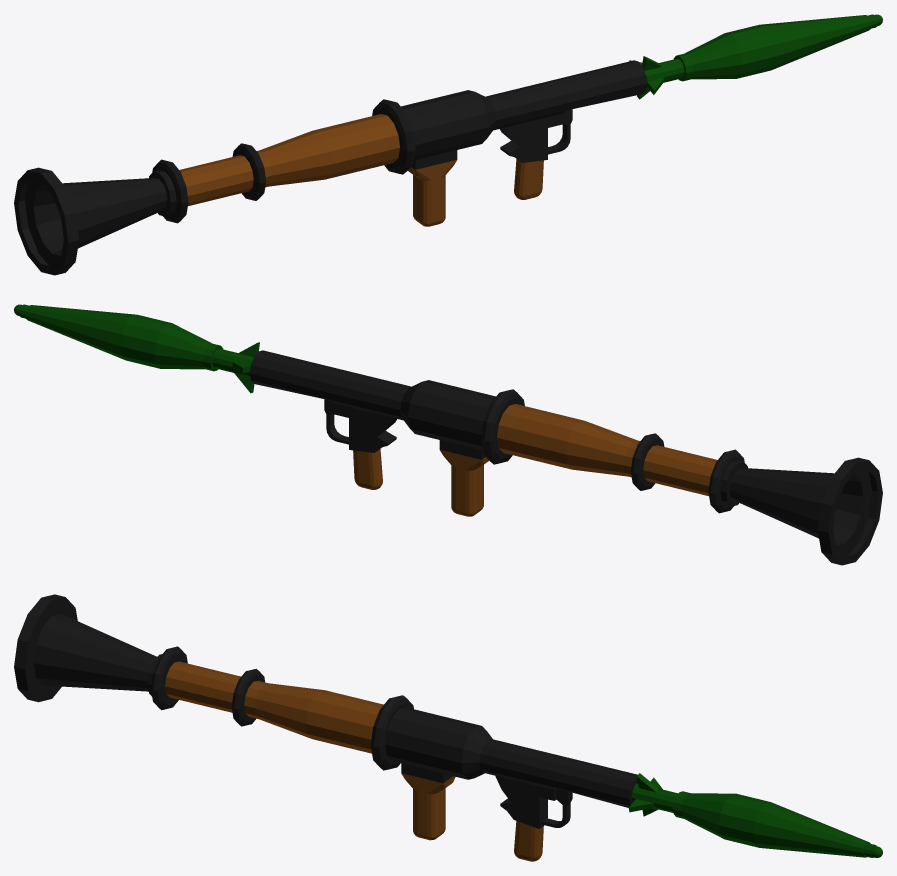
The model's file is rpg_med_missil.fbx.
3 views of the same model, one above another, from view 1: azimuth 30°, elevation 25°; view 2: azimuth 150°, elevation 25°; view 3: azimuth 330°, elevation 25° (orthographic).
Parts seen in each view (by area): view 1: Cylinder, Cylinder.003, Cylinder.002, Cylinder.004; view 2: Cylinder, Cylinder.003, Cylinder.002, Cylinder.004; view 3: Cylinder, Cylinder.003, Cylinder.002, Cylinder.004.
Part boxes in pixels (x1=…): Cylinder: x1=14, y1=60, x2=646, y2=275; Cylinder.003: x1=629, y1=14, x2=882, y2=99; Cylinder.002: x1=407, y1=160, x2=456, y2=226; Cylinder.004: x1=514, y1=159, x2=543, y2=199; Cylinder: x1=250, y1=350, x2=882, y2=565; Cylinder.003: x1=14, y1=304, x2=259, y2=393; Cylinder.002: x1=440, y1=450, x2=489, y2=516; Cylinder.004: x1=353, y1=449, x2=382, y2=489; Cylinder: x1=14, y1=594, x2=637, y2=828; Cylinder.003: x1=628, y1=773, x2=882, y2=857; Cylinder.002: x1=401, y1=773, x2=455, y2=840; Cylinder.004: x1=514, y1=821, x2=543, y2=861.
Size of the model in its own units: 480 by 78.28 by 53.71.
